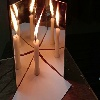fire: (34, 7, 41, 43)
